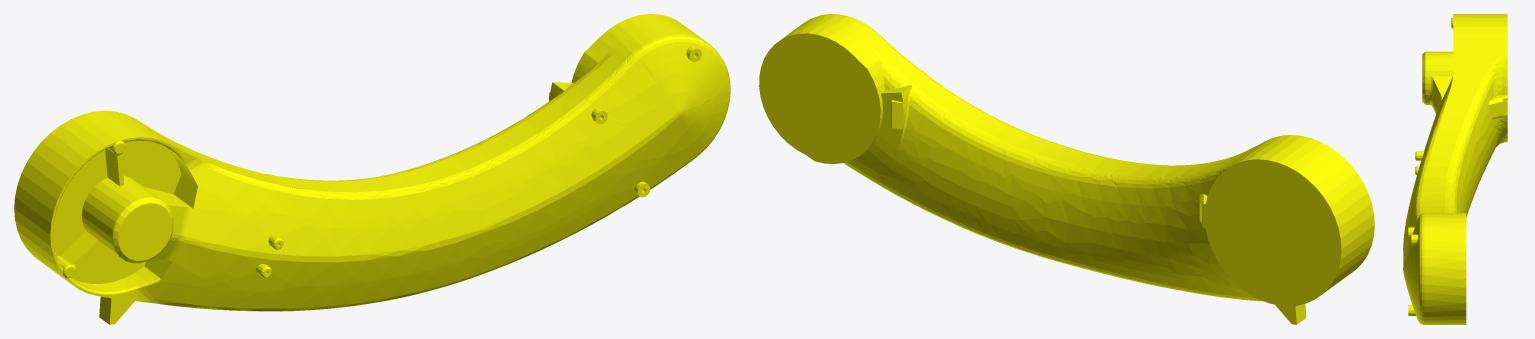
The picture shows the model from 3 angles, left to right: view 1: azimuth 30°, elevation 25°; view 2: azimuth 150°, elevation 25°; view 3: azimuth 270°, elevation 25°; orthographic projection. The views are drawn at different scales.
Parts seen in each view (by area): view 1: node; view 2: node; view 3: node.
Boxes of the visible parts, bbox=[...] form: node: bbox=[14, 14, 730, 324]; node: bbox=[759, 14, 1374, 324]; node: bbox=[1403, 14, 1507, 324].
Size of the model in its own units: 1457 by 432 by 300.
